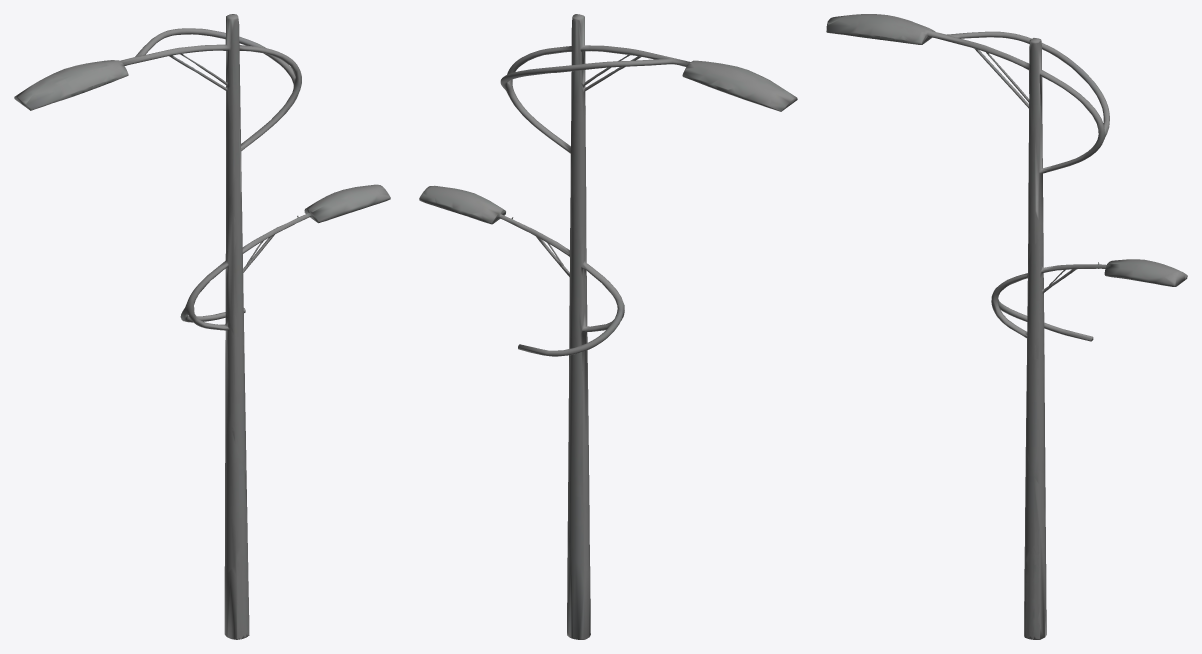
Rendered from streetlight.glb.
The picture shows the model from 3 angles, left to right: view 1: azimuth 30°, elevation 25°; view 2: azimuth 150°, elevation 25°; view 3: azimuth 330°, elevation 25°; orthographic projection. The views are drawn at different scales.
Parts seen in each view (by area): view 1: node_0; view 2: node_0; view 3: node_0.
Part boxes in pixels (x1=…): node_0: x1=14, y1=14, x2=390, y2=639; node_0: x1=419, y1=14, x2=797, y2=639; node_0: x1=826, y1=14, x2=1187, y2=639.
Size of the model in its own units: 0.6802 by 1.1 by 0.1244.
1 material, 1 textured.
